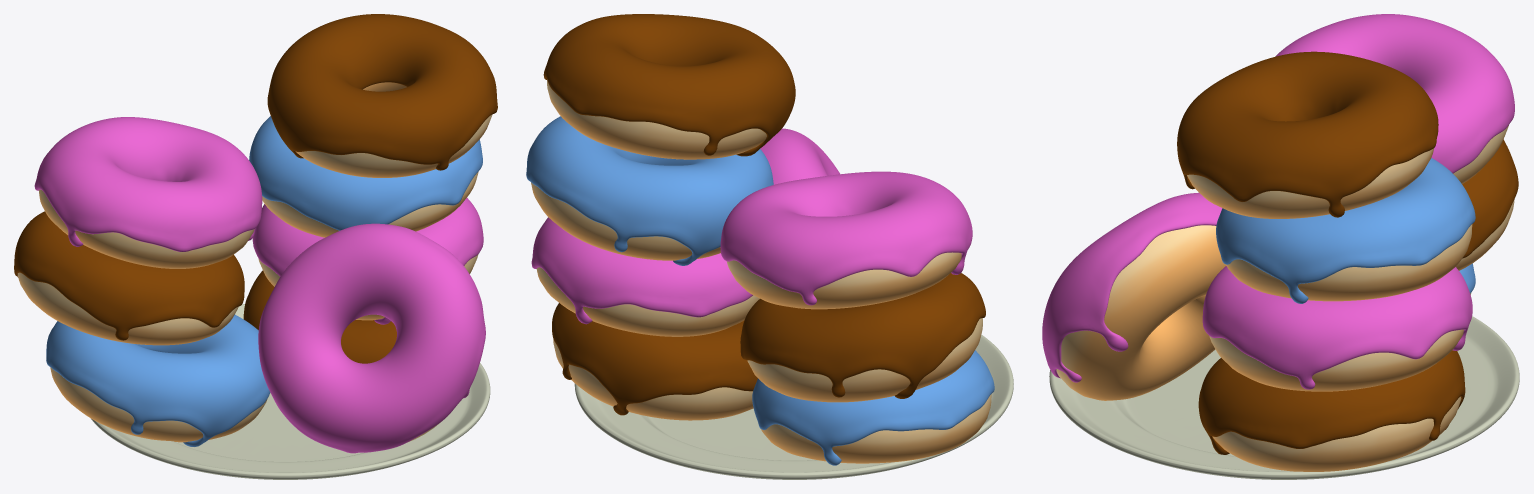
The model's file is donut.glb.
3 renders of one model, left to right at view 1: azimuth 30°, elevation 25°; view 2: azimuth 150°, elevation 25°; view 3: azimuth 270°, elevation 25°, orthographic. The views are drawn at different scales.
Parts seen in each view (by area): view 1: Icing.007, Icing.004, Icing.006, Icing, Icing.005, Platter, Icing.003, Icing.002, Donut - Round sprinkles.002, Donut - Round sprinkles.003, Donut - Round sprinkles.001, Donut - Cylindrical sprinkles.004 (+2 smaller); view 2: Icing.004, Icing.006, Icing.003, Icing.005, Platter, Icing.001, Icing.002, Icing, Donut - Round sprinkles.003, Donut - Cylindrical sprinkles.004, Donut - Round sprinkles.001, Donut - Round sprinkles.002 (+4 smaller); view 3: Icing.004, Platter, Icing.002, Donut - Round sprinkles.004, Icing.003, Icing.006, Icing.001, Icing.007, Donut - Cylindrical sprinkles.001, Donut - Cylindrical sprinkles.003, Donut - Cylindrical sprinkles.002, Donut - Cylindrical sprinkles.004 (+3 smaller).
Boxes of the visible parts, x1,y1,x2,y2 form: Icing.007: (258, 223, 485, 453); Icing.004: (267, 14, 497, 170); Icing.006: (34, 117, 262, 251); Icing: (46, 314, 270, 446); Icing.005: (14, 211, 244, 340); Platter: (90, 304, 490, 479); Icing.003: (249, 116, 482, 230); Icing.002: (252, 198, 483, 324); Donut - Round sprinkles.002: (17, 272, 238, 345); Donut - Round sprinkles.003: (39, 189, 254, 268); Donut - Round sprinkles.001: (50, 367, 267, 442); Donut - Cylindrical sprinkles.004: (296, 82, 492, 177); Icing.004: (543, 14, 795, 156); Icing.006: (720, 171, 972, 305); Icing.003: (526, 116, 773, 265); Icing.005: (740, 273, 985, 398); Platter: (574, 334, 1013, 479); Icing.001: (552, 303, 757, 415); Icing.002: (531, 217, 752, 324); Icing: (752, 350, 994, 465); Donut - Round sprinkles.003: (726, 252, 961, 309); Donut - Cylindrical sprinkles.004: (547, 79, 766, 159); Donut - Round sprinkles.001: (761, 394, 991, 463); Donut - Round sprinkles.002: (747, 318, 982, 402); Icing.004: (1177, 51, 1438, 217); Platter: (1049, 316, 1519, 479); Icing.002: (1202, 266, 1472, 389); Donut - Round sprinkles.004: (1056, 225, 1225, 400); Icing.003: (1216, 158, 1475, 303); Icing.006: (1275, 14, 1514, 173); Icing.001: (1198, 350, 1465, 454); Icing.007: (1042, 192, 1222, 382); Donut - Cylindrical sprinkles.001: (1212, 396, 1461, 471); Donut - Cylindrical sprinkles.003: (1226, 224, 1472, 301); Donut - Cylindrical sprinkles.002: (1209, 329, 1463, 391); Donut - Cylindrical sprinkles.004: (1187, 148, 1433, 218).
Size of the model in its own units: 0.3501 by 0.2655 by 0.3019.
Materials: 5 (1 with a texture image).
